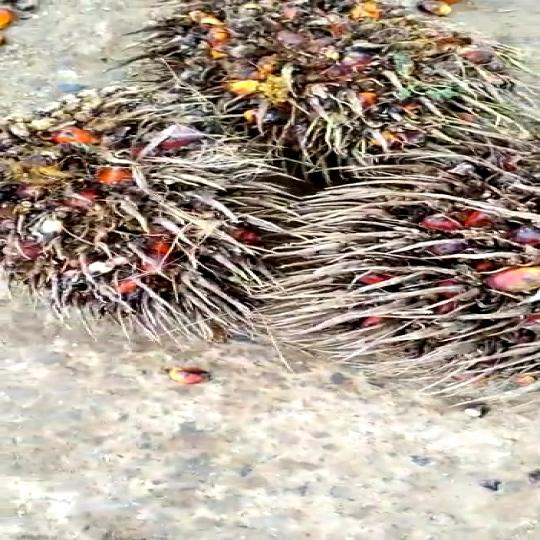terlalu masak: (136, 0, 536, 170), (0, 89, 275, 315)
